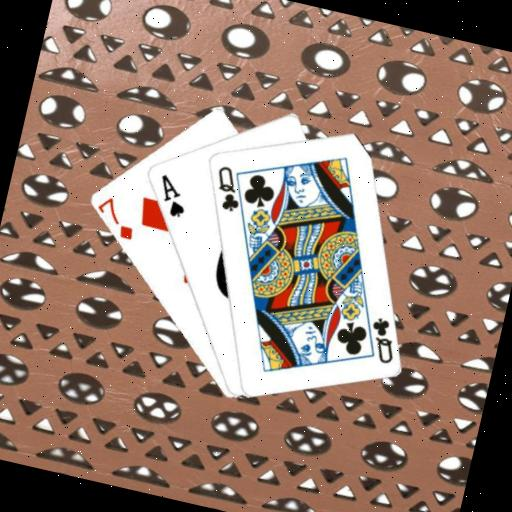7D: (89, 192, 141, 243)
AS: (149, 170, 193, 222)
QC: (206, 161, 249, 216), (361, 313, 403, 367)
